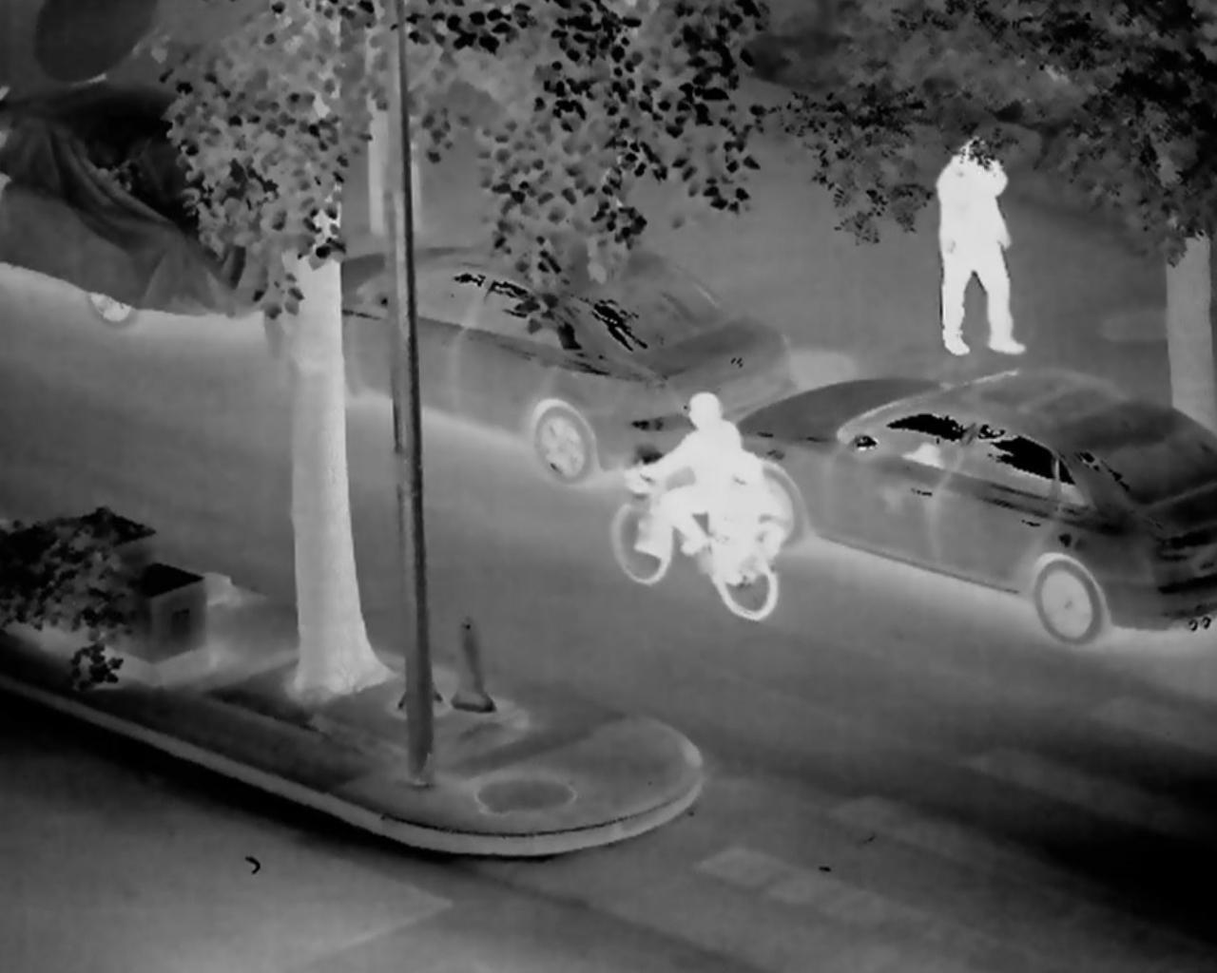person: (920, 122, 1037, 361), (628, 385, 769, 577)
